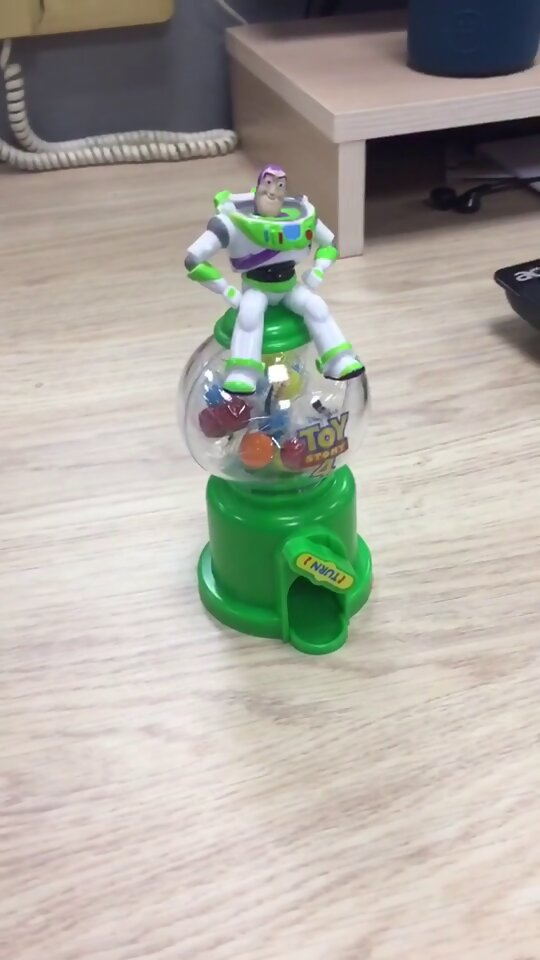buzz: (170, 159, 385, 661)
